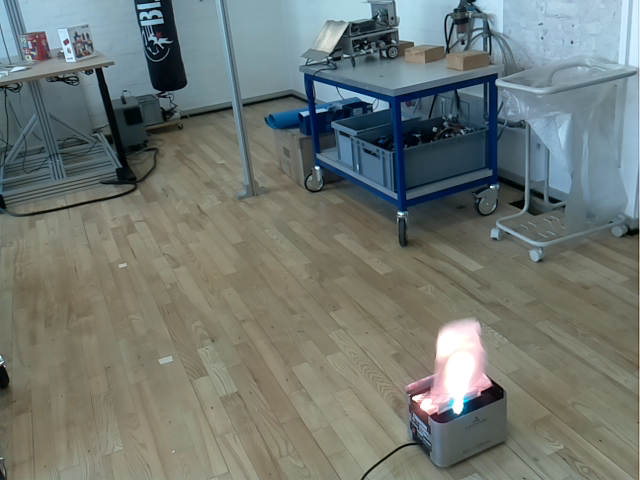fire: (425, 317, 493, 416)
